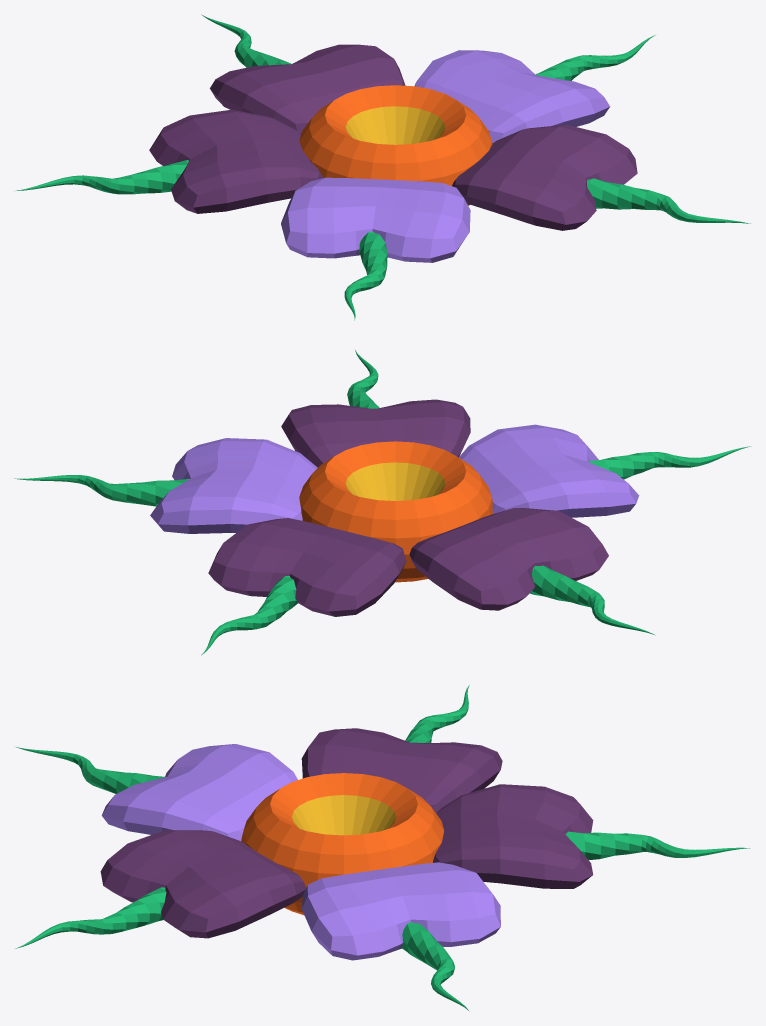
The model's file is Planta enredadera.fbx.
3 views of the same model, one above another, from view 1: azimuth 30°, elevation 25°; view 2: azimuth 150°, elevation 25°; view 3: azimuth 270°, elevation 25° (orthographic). The views are drawn at different scales.
Visible parts, largest first — view 1: Petalos, Centro, Lianas; view 2: Petalos, Centro, Lianas; view 3: Petalos, Centro, Lianas.
Part boxes in pixels (x1,y1,x2,y2): Petalos: [149, 44, 637, 262]; Centro: [299, 85, 492, 205]; Lianas: [14, 14, 750, 320]; Petalos: [150, 399, 639, 616]; Centro: [299, 441, 492, 582]; Lianas: [14, 350, 751, 655]; Petalos: [100, 728, 593, 960]; Centro: [241, 773, 443, 915]; Lianas: [14, 685, 749, 1010].
Size of the model in its own units: 743 by 96.6 by 706.
